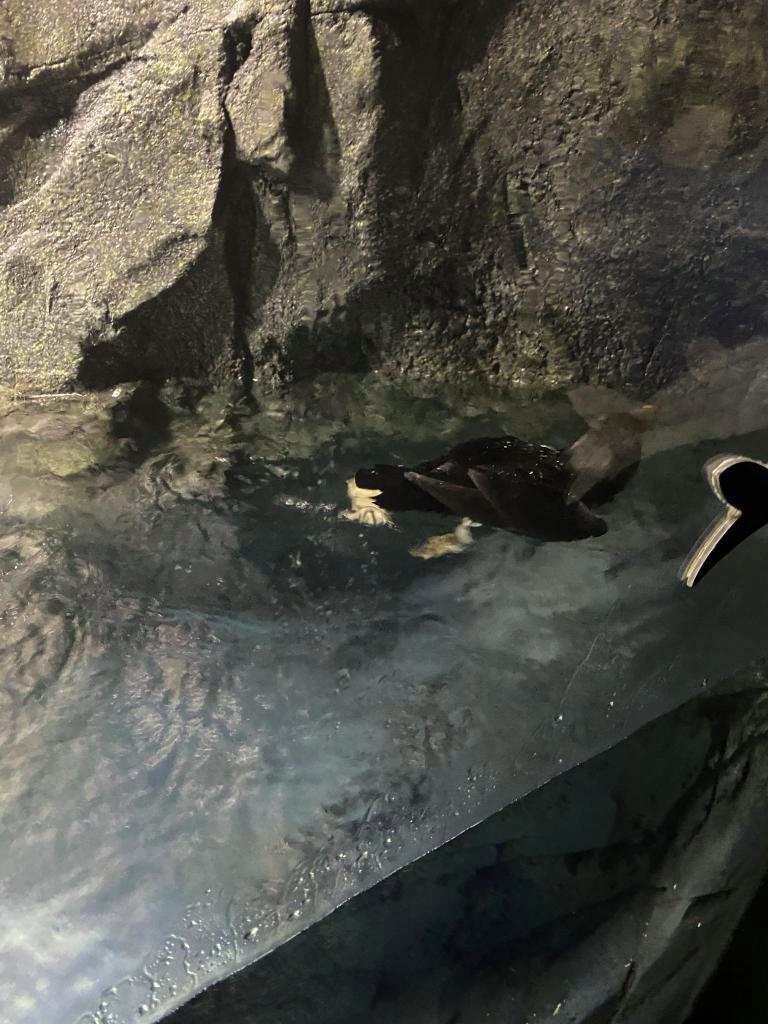puffin: (315, 422, 605, 566)
